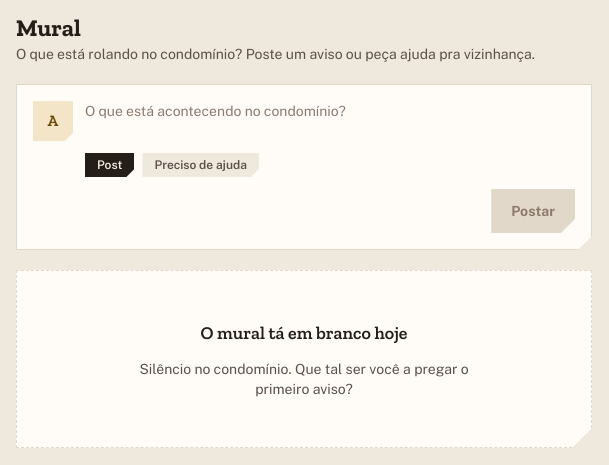
Test: MuralPage › publica um post do tipo Post (aviso) por padrão e adiciona na lista sem precisar recarregar
expect the text "O mural tá em branco hoje" is shown: met, box [201,319,408,347]
Type "Alguém viu meu gato?" into the text box with placeholder "O que está acontecendo no condomínio?". click: {"x": 330, "y": 121}
box: [85,101,575,141]
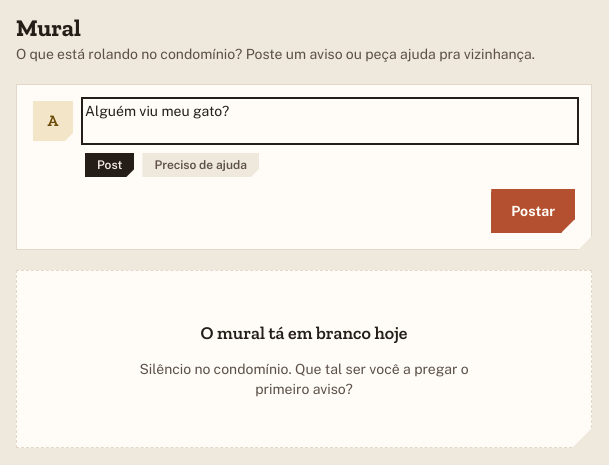
Click the button "Postar". click: {"x": 533, "y": 211}
box: [491,189,575,233]
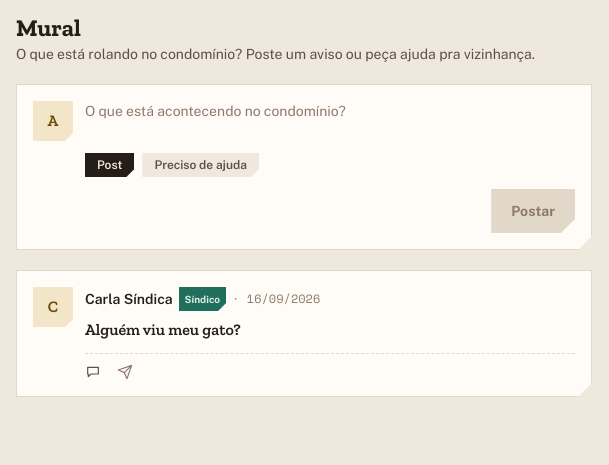
expect the text "Alguém viu meu gato?" is shown: met, box [85,320,241,339]
